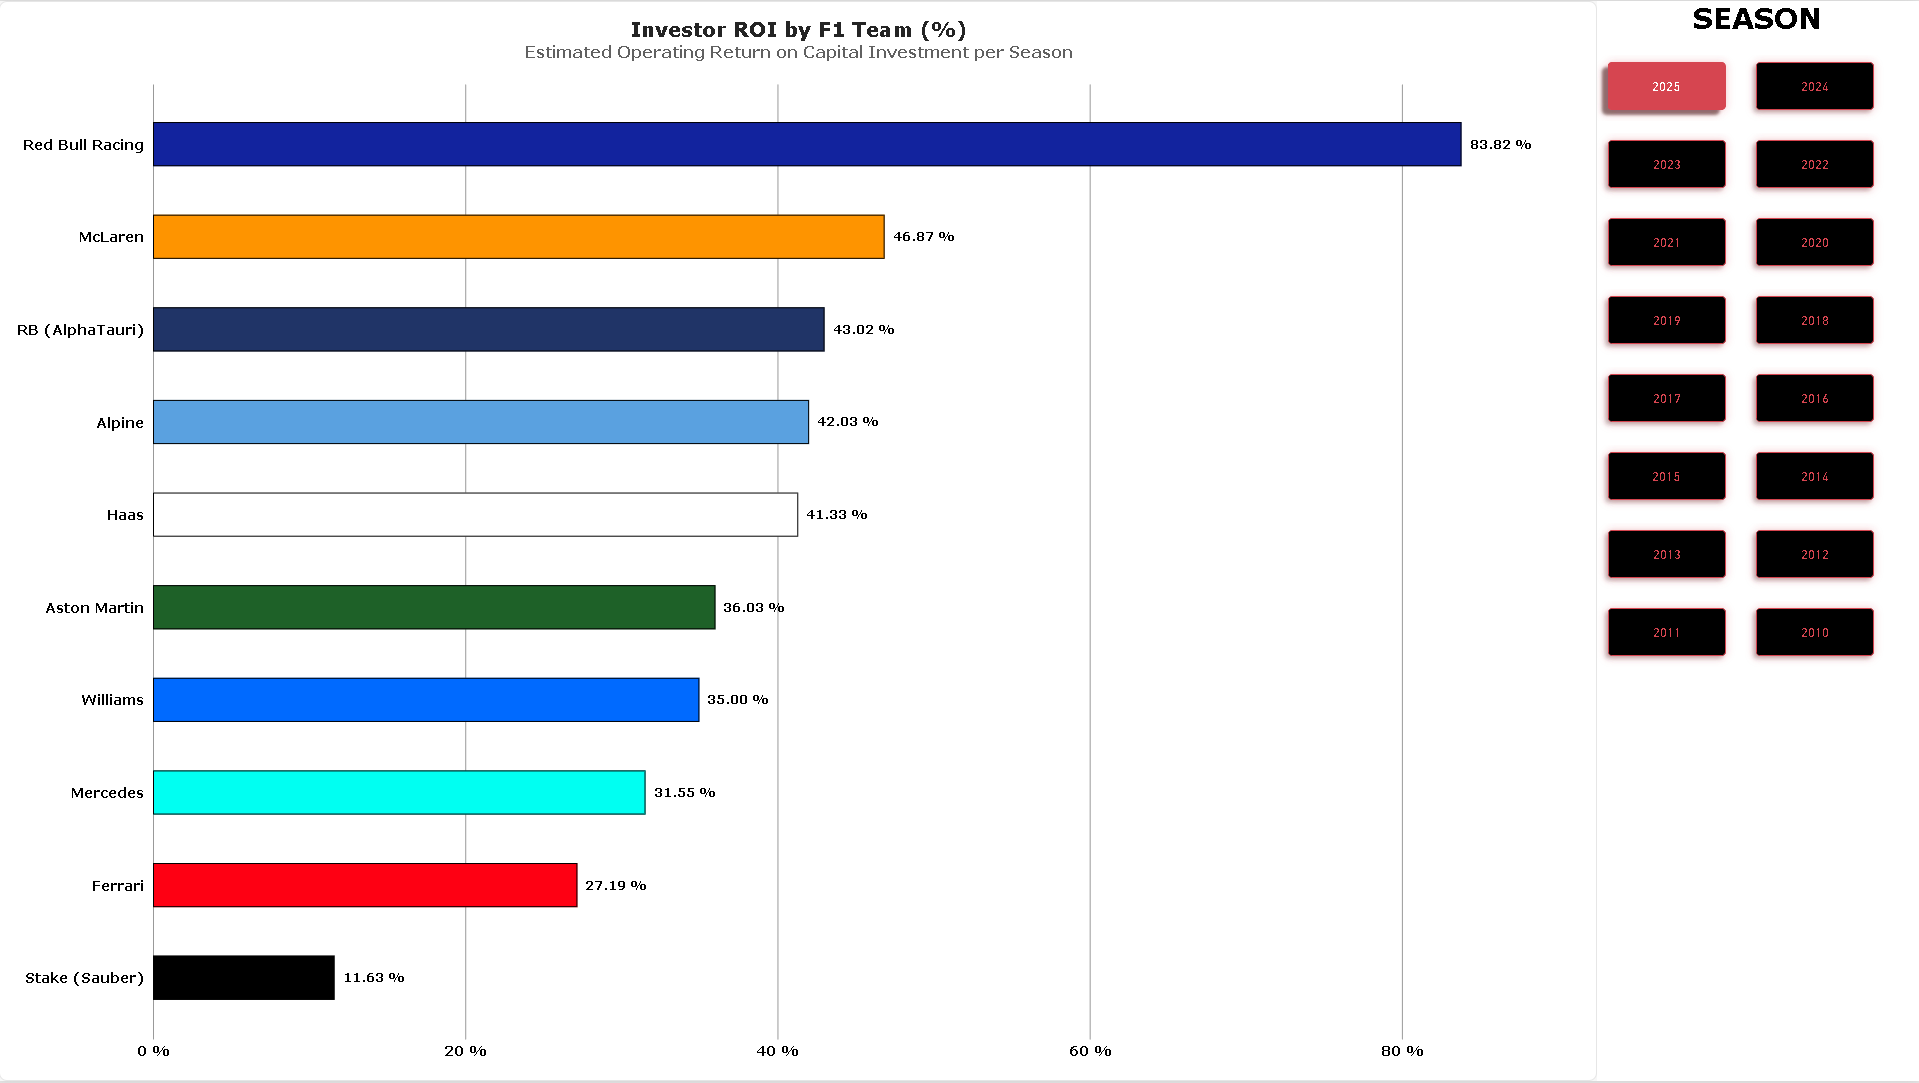

This screenshot's page, from the dashboard's own definition file:
{"tool":"powerbi","page":{"name":"Page 1","canvas":[1920,1080],"ordinal":0},"visuals":[{"type":"barChart","title":"Investor ROI by F1 Team (%)","fields":{"Category":["constructor_finances.team_name"],"Y":["constructor_finances.ROI_Inversor"]},"box":[0,0,1598.5,1080.3],"z":0},{"type":"advancedSlicerVisual","title":"SEASON","fields":{"Values":["Dim Season.Season"]},"box":[1598.5,0,321.5,1080.3],"z":1000}]}

Visuals, with their boxes in screenshot pixels (x1, y1, x2, y2), scaled from the page's 1920x1080 canvas onto the 1919x1083 screenshot:
"Investor ROI by F1 Team (%)" barChart: 0 0 1598 1082
"SEASON" advancedSlicerVisual: 1598 0 1918 1082
